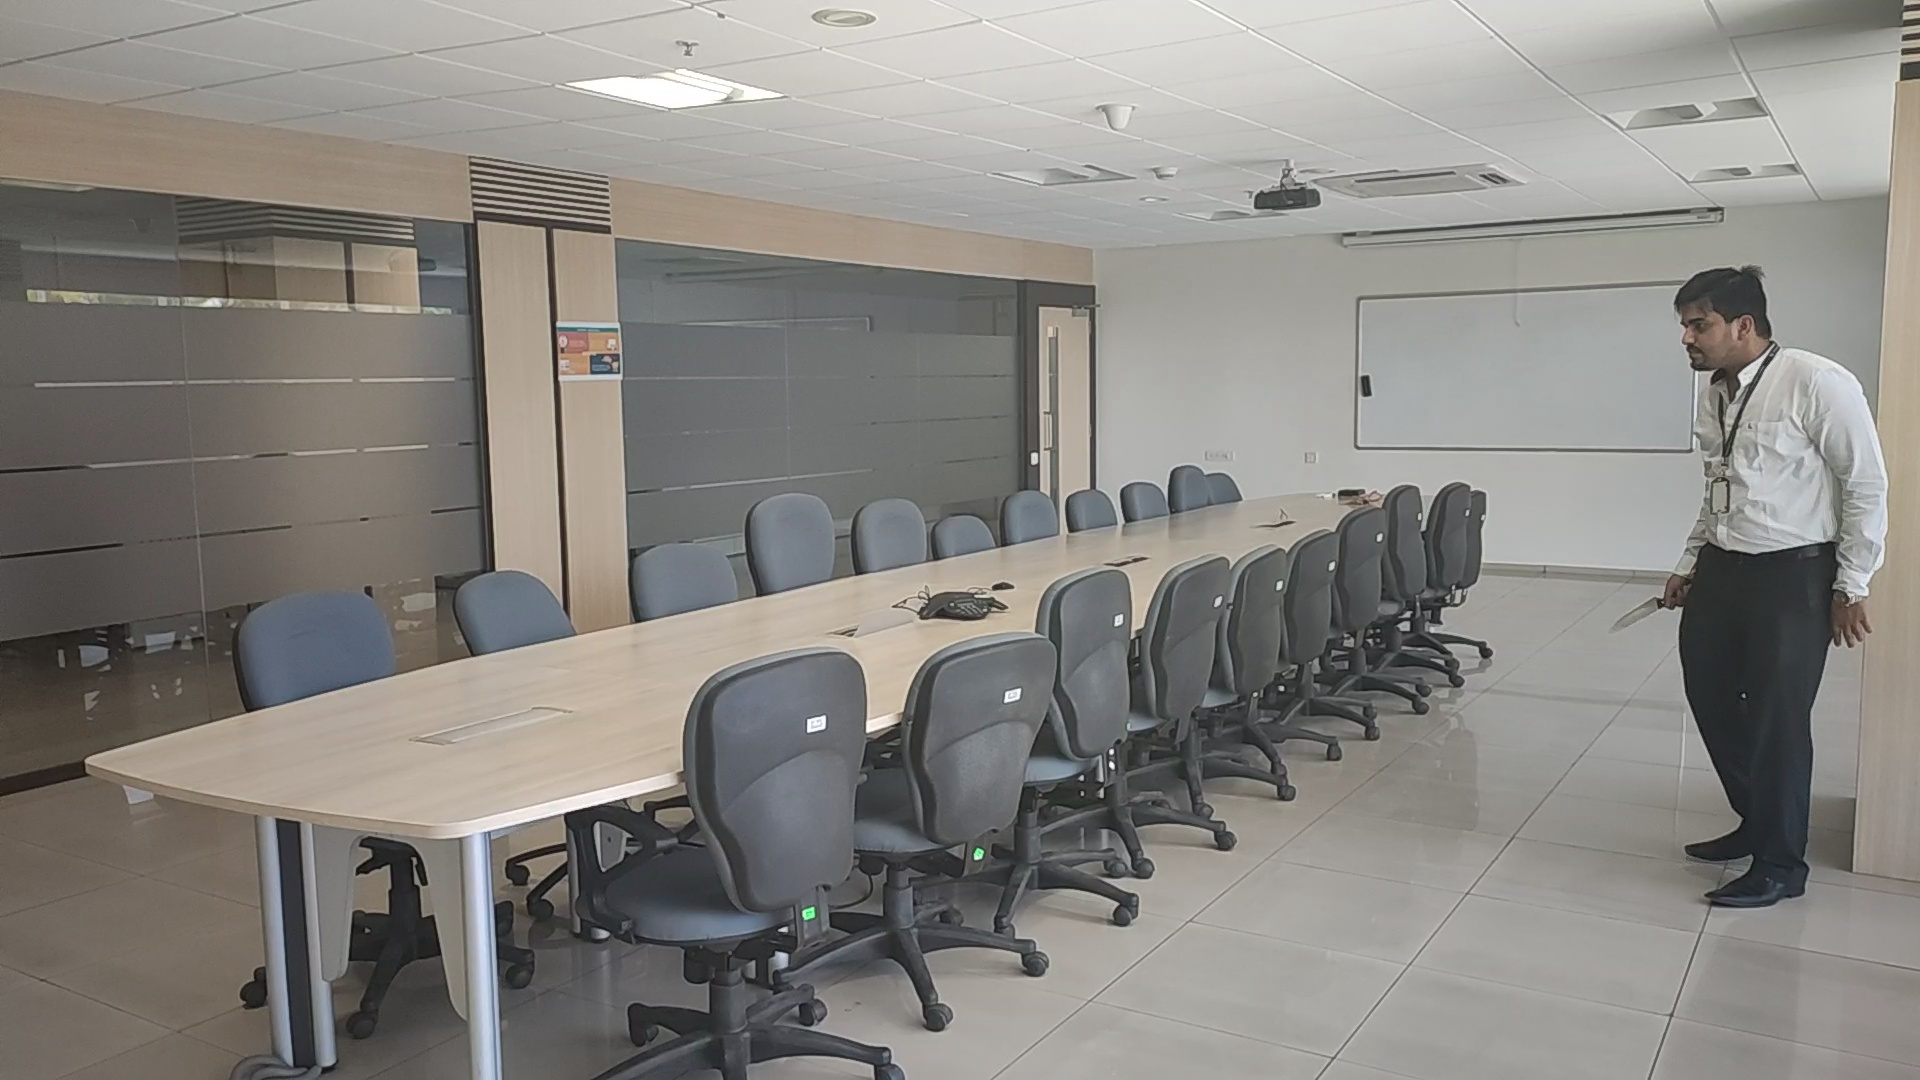knife: (1609, 593, 1663, 634)
